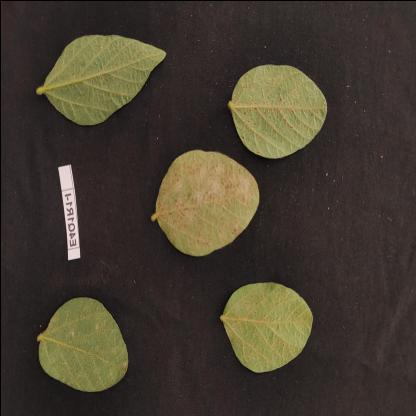label: (54, 160, 84, 259)
leaflets: (28, 24, 172, 129), (140, 146, 260, 262), (21, 290, 130, 401), (209, 276, 314, 384), (226, 58, 335, 161)
